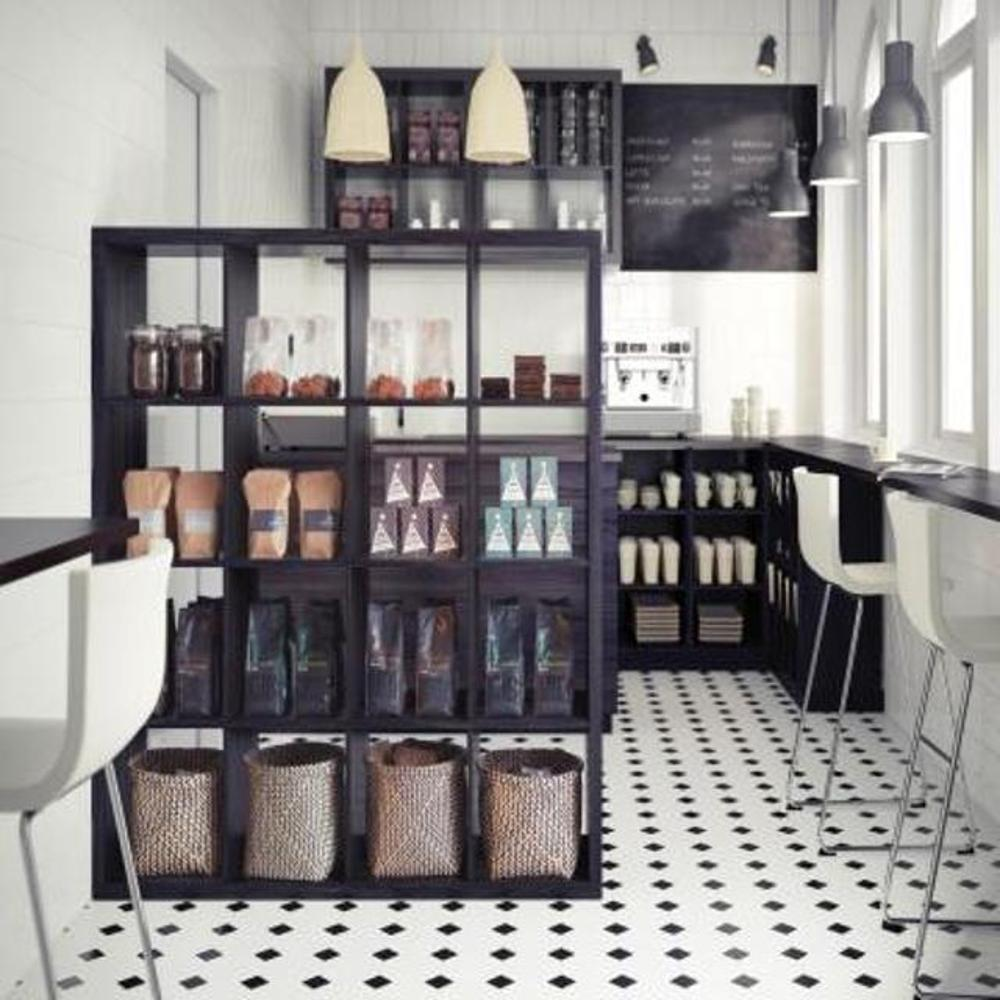lamp: (86, 223, 604, 907)
